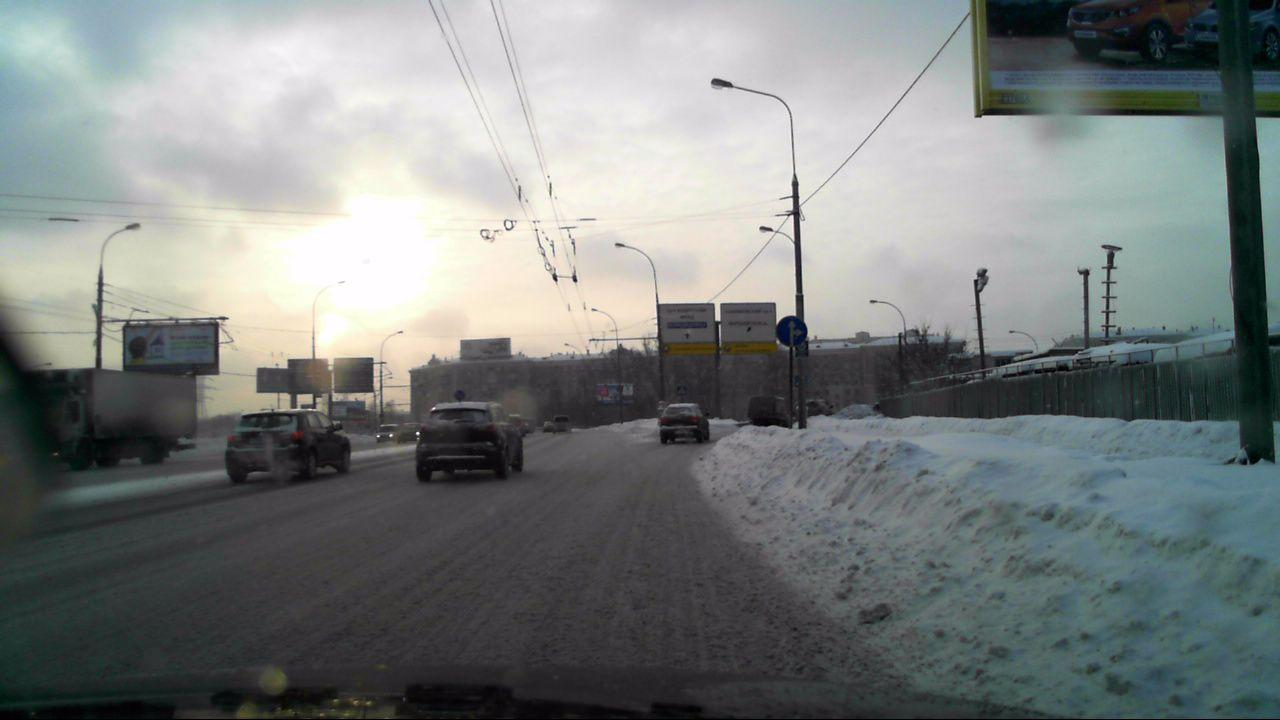4_1_4: (773, 314, 809, 350)
6_10_1: (657, 301, 715, 342), (719, 300, 775, 342)
